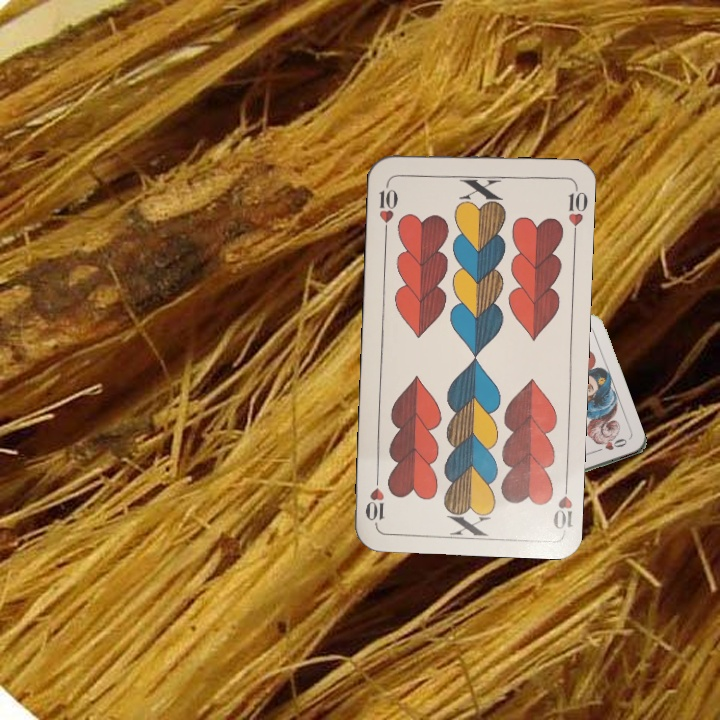H10: (375, 177, 401, 236), (549, 474, 575, 533)
